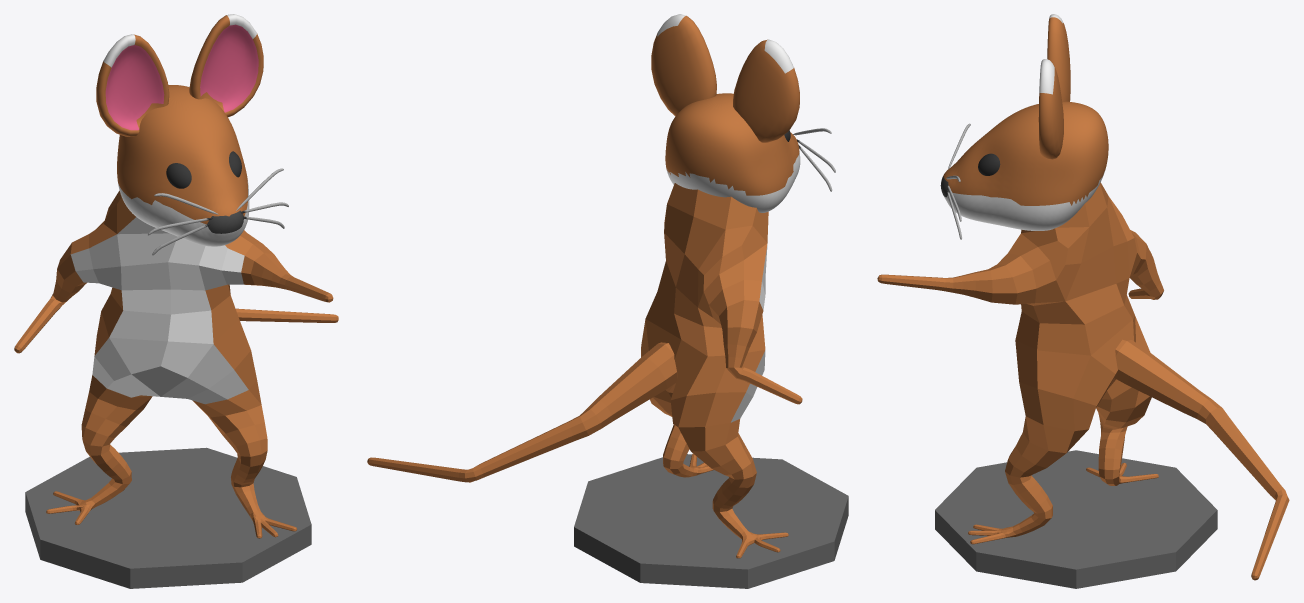
File: Sprig.glb
3 renders of one model, left to right at view 1: azimuth 30°, elevation 25°; view 2: azimuth 150°, elevation 25°; view 3: azimuth 270°, elevation 25°, orthographic. The views are drawn at different scales.
Visible parts, largest first — view 1: SprigST; view 2: SprigST; view 3: SprigST.
Boxes of the visible parts, x1,y1,x2,y2 form: SprigST: (14, 14, 338, 588); SprigST: (367, 14, 848, 588); SprigST: (877, 14, 1289, 588).
Bounding box in the file's own units: 1.33 × 1.67 × 1.27.
